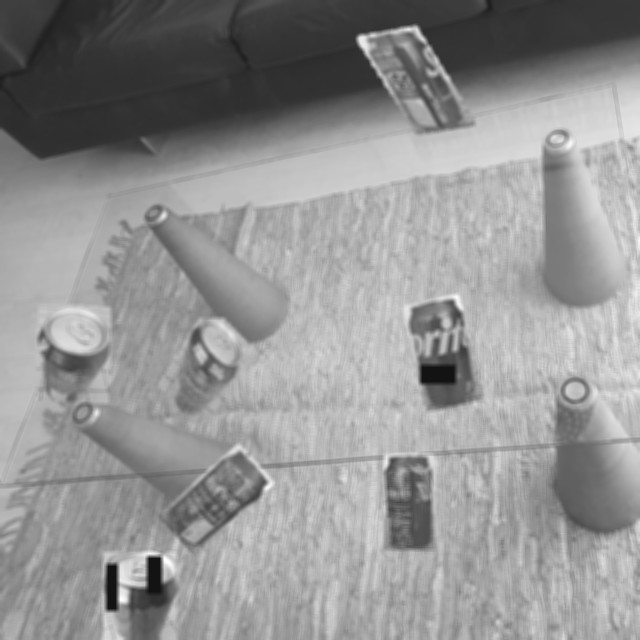coca cola: (158, 444, 274, 555), (384, 454, 435, 550)
heineken: (36, 305, 111, 404)
schweppes: (103, 552, 177, 640)
sprite: (357, 13, 475, 149), (149, 318, 256, 424), (403, 294, 483, 412)
